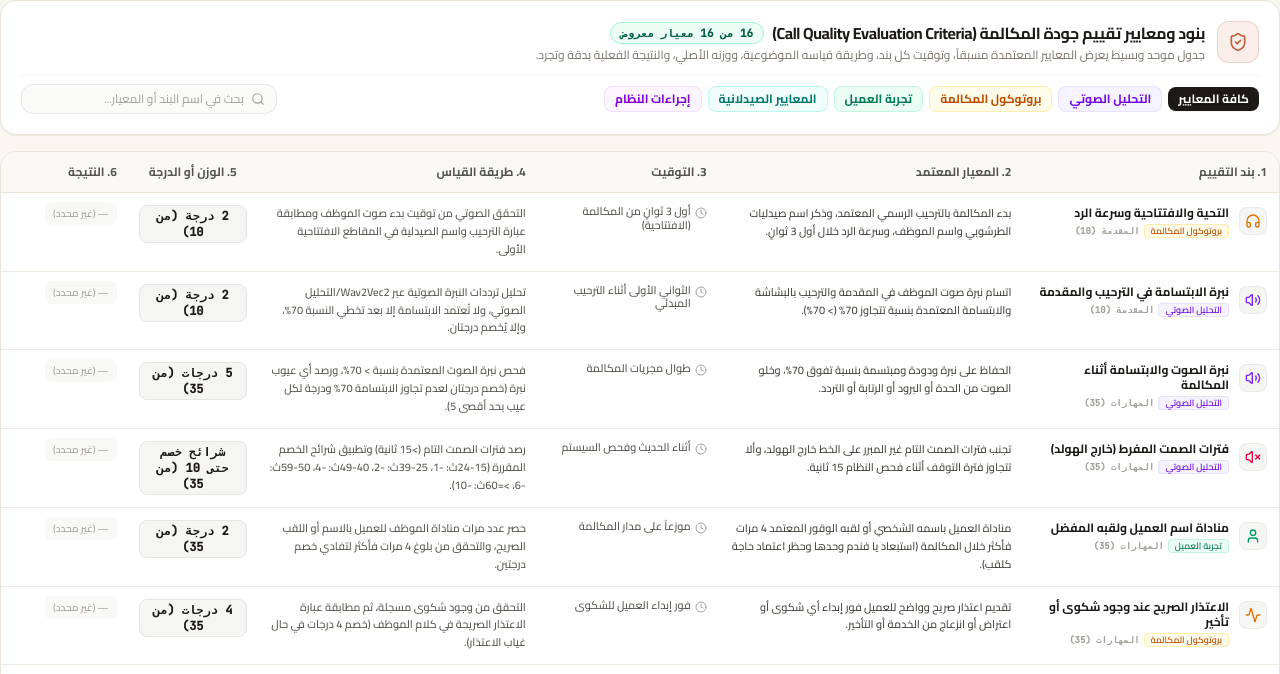
Test: CallQualityCriteriaView › filters criteria by category properly
Step 1. Click the button "المعايير الصيدلانية" → click(768, 99), box [708, 86, 828, 112]
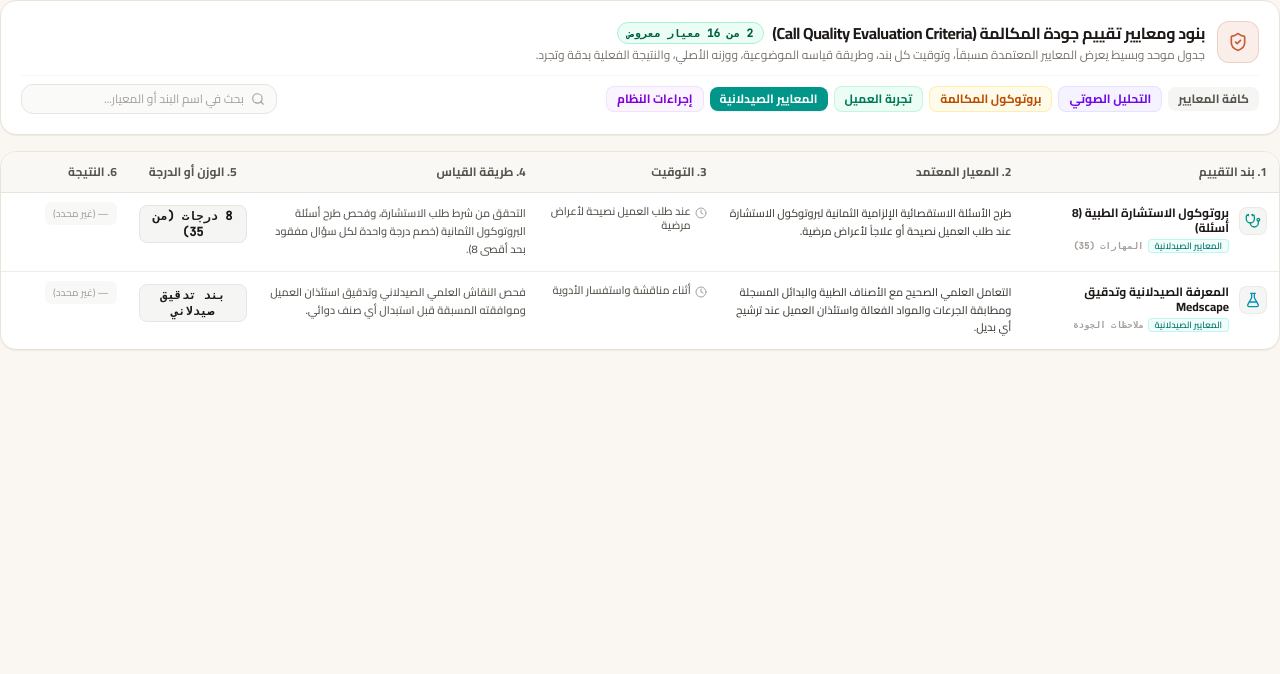
Expected: the text "بروتوكول الاستشارة الطبية (8 أسئلة)" is shown, [1072, 201, 1229, 239]
Expected: the text "التحية والافتتاحية وسرعة الرد" is gone
